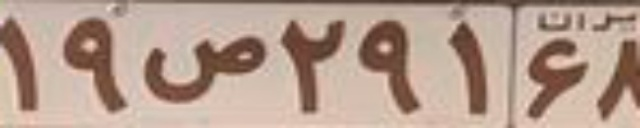1: (2, 15, 40, 112), (448, 21, 487, 115)
2: (278, 18, 344, 113)
6: (521, 37, 588, 119)
8: (595, 38, 639, 123)
9: (62, 16, 126, 113), (357, 18, 420, 116)
saat: (141, 35, 267, 104)
